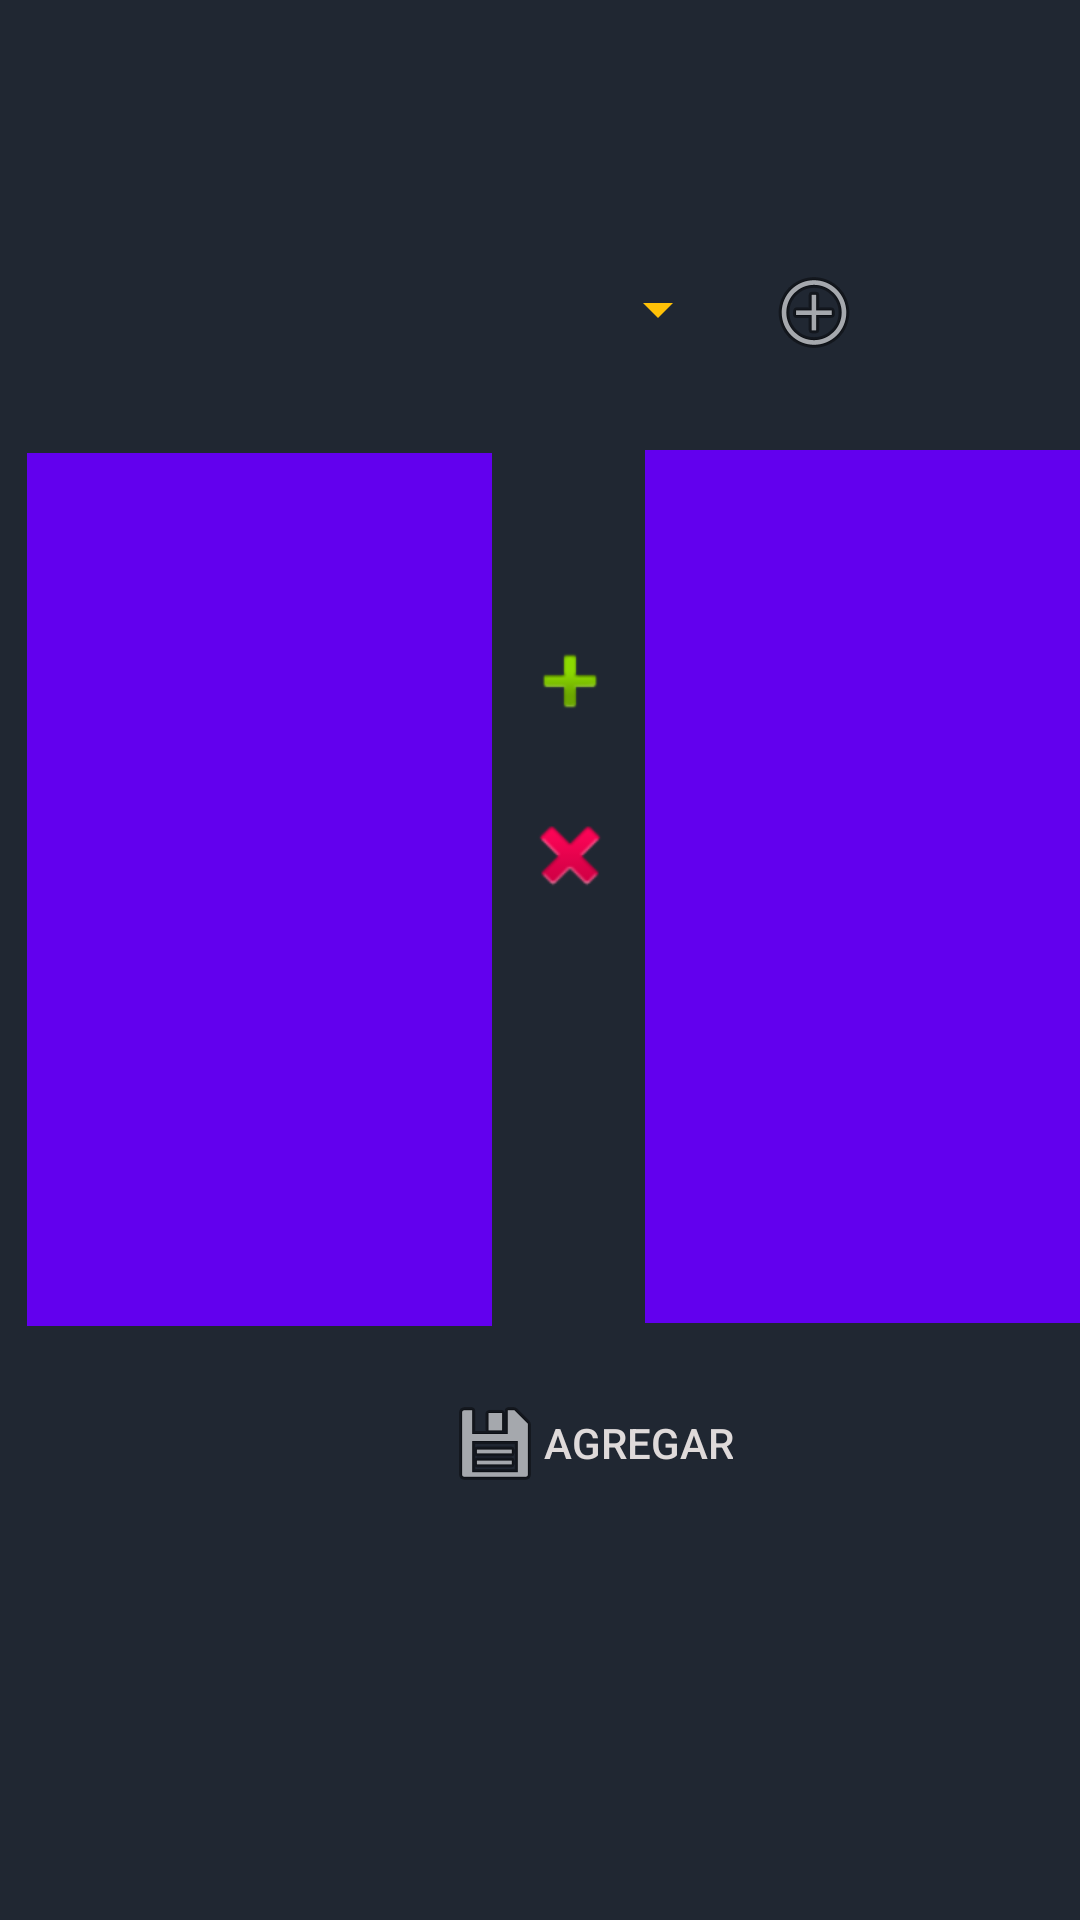

Named icons in this screenshot (1080w x 1920h) and their centers, (x,y):
Agregar: (570,681)
Agregar Grupo: (814,312)
Eliminar: (570,855)
